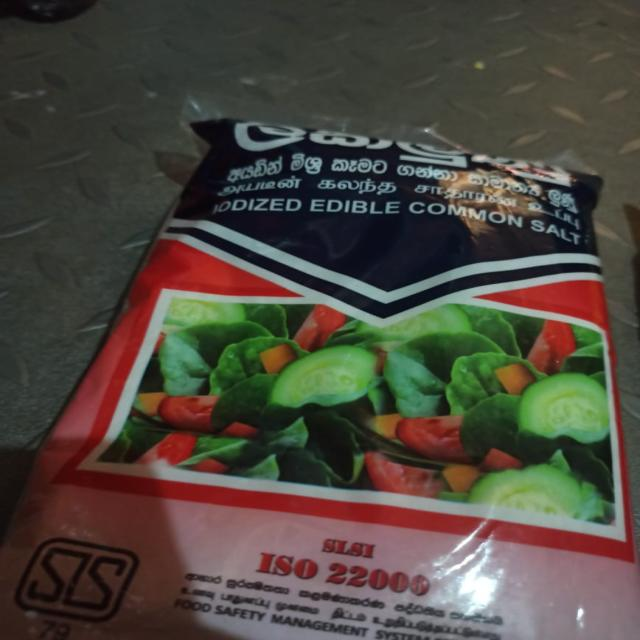Lak Lunu: (41, 116, 638, 640), (197, 116, 542, 640)
